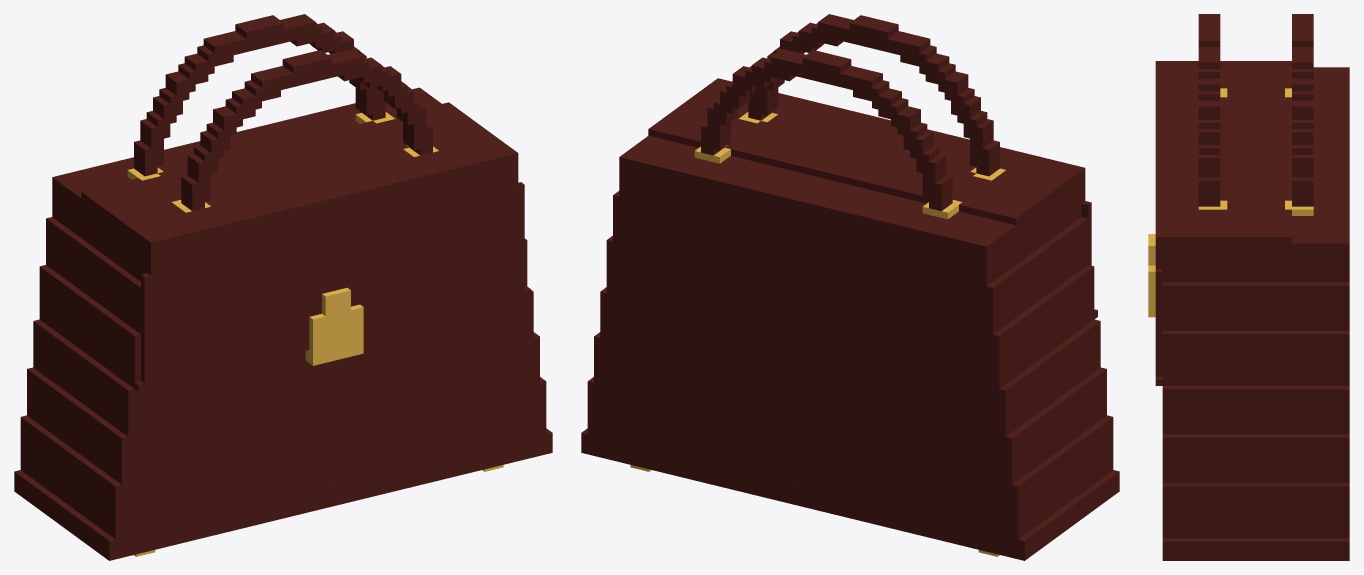
The model's file is purse.glb.
The picture shows the model from 3 angles, left to right: view 1: azimuth 30°, elevation 25°; view 2: azimuth 150°, elevation 25°; view 3: azimuth 270°, elevation 25°; orthographic projection.
Visible parts, largest first — view 1: purse:compound; view 2: purse:compound; view 3: purse:compound.
Part boxes in pixels (left/top/right/bottom): purse:compound: left=14, top=14, right=552, bottom=560; purse:compound: left=581, top=14, right=1119, bottom=560; purse:compound: left=1148, top=14, right=1349, bottom=560.
Size of the model in its own units: 0.28 by 0.268 by 0.112.
